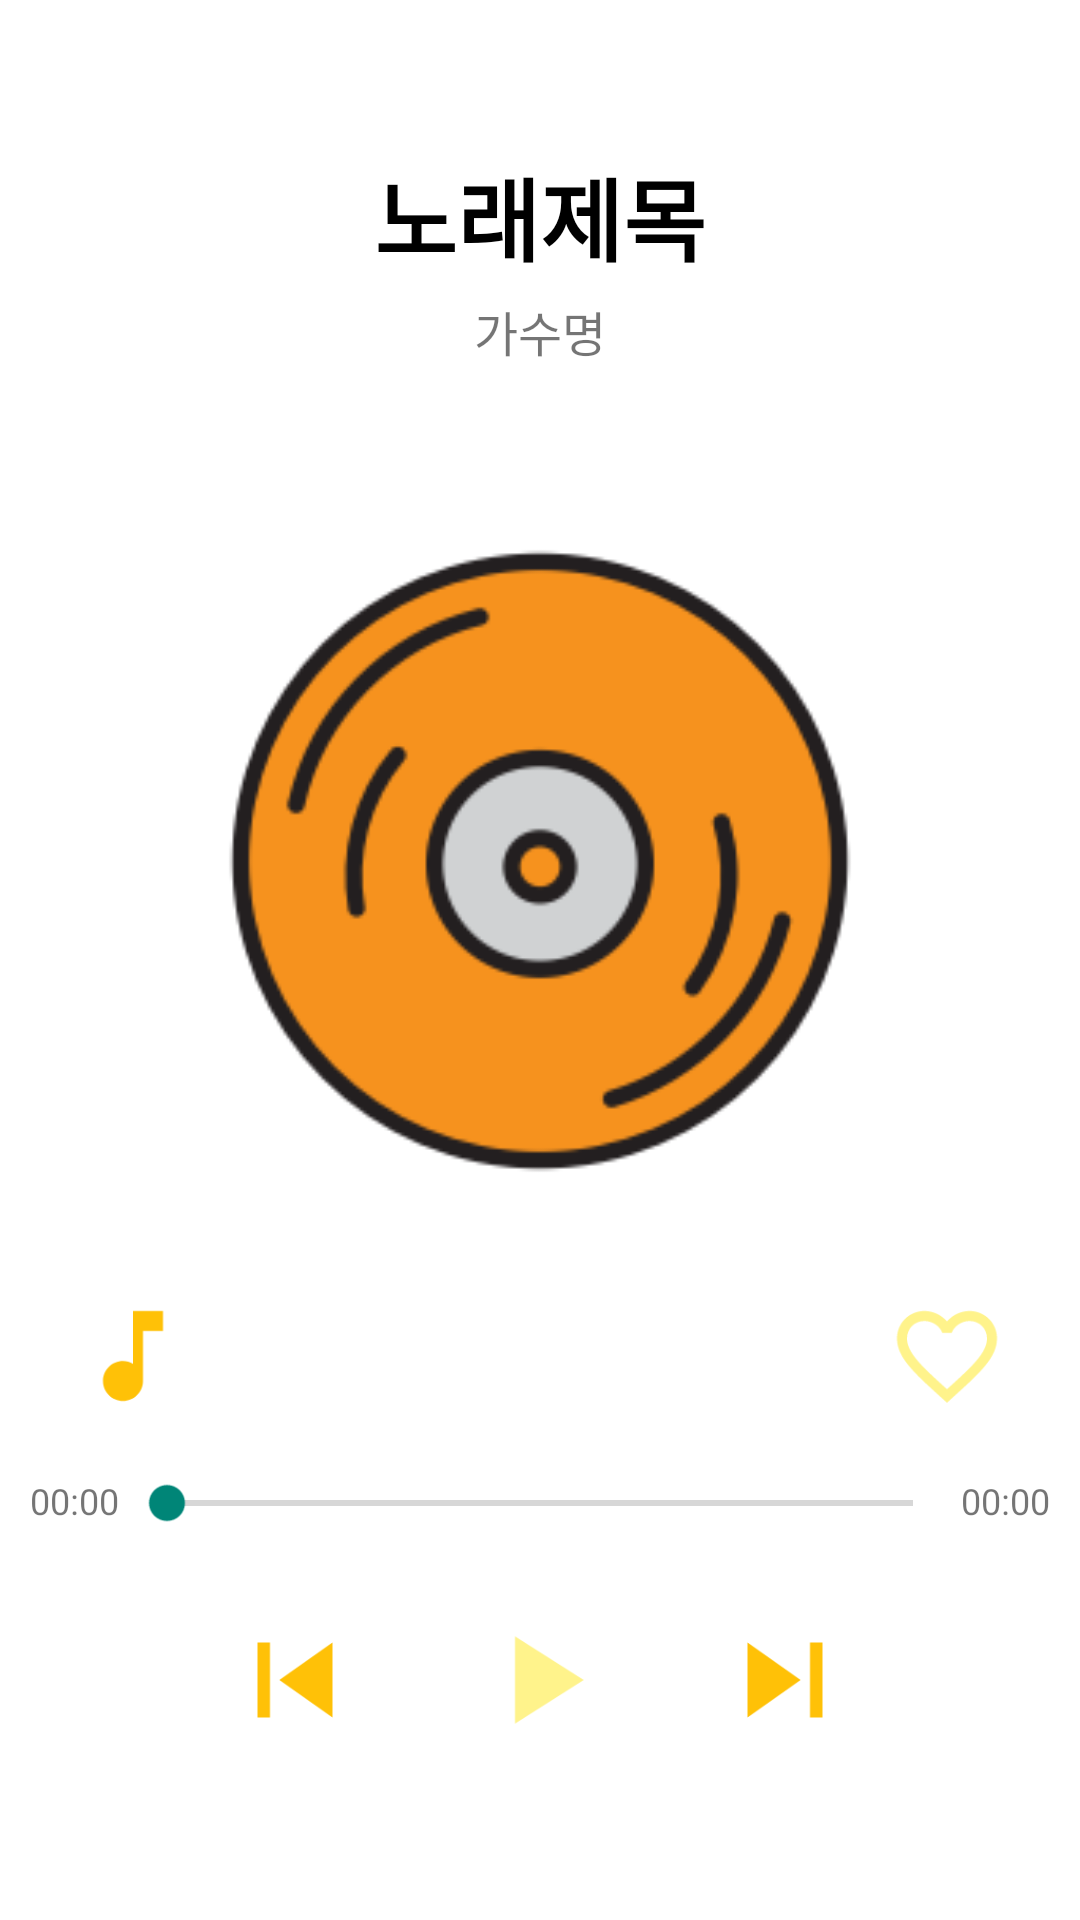

Icon click points for this 1080×1920 phone screenshot, format point (x, y):
favorite border: point (947, 1357)
music note: point (133, 1356)
play arrow: point (549, 1680)
skip next: point (785, 1680)
skip previous: point (295, 1680)
